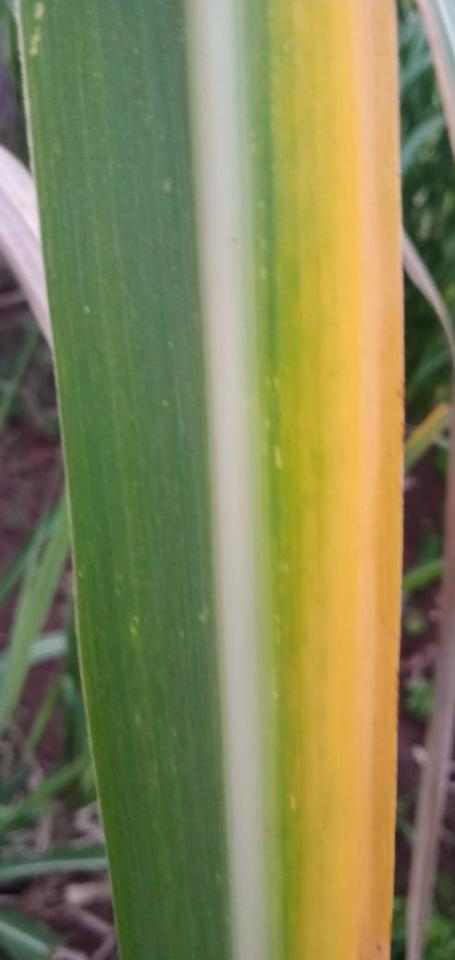Rust: (376, 945, 382, 953)
Yellow: (300, 0, 405, 959)
